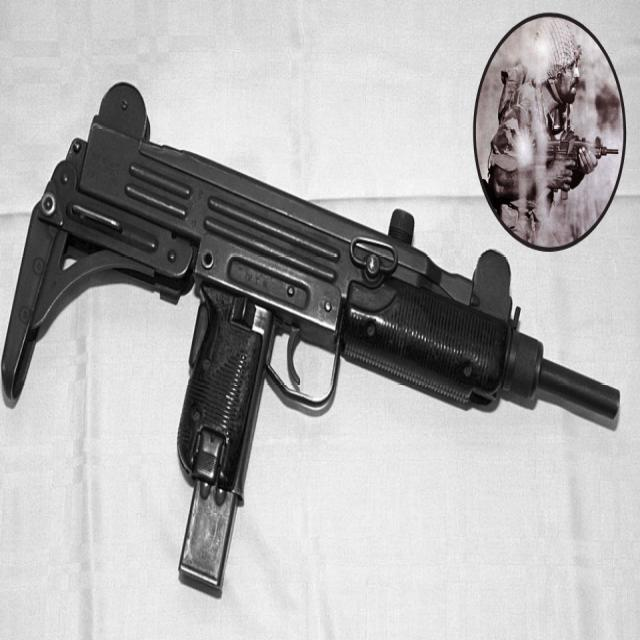SMG: (0, 83, 622, 600)
